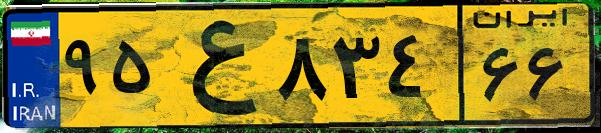3: (330, 28, 385, 110)
4: (385, 28, 445, 110)
5: (110, 28, 158, 98)
6: (475, 38, 525, 113), (525, 38, 570, 115)
8: (270, 28, 330, 110)
9: (57, 26, 110, 100)
ع: (158, 12, 270, 120)
